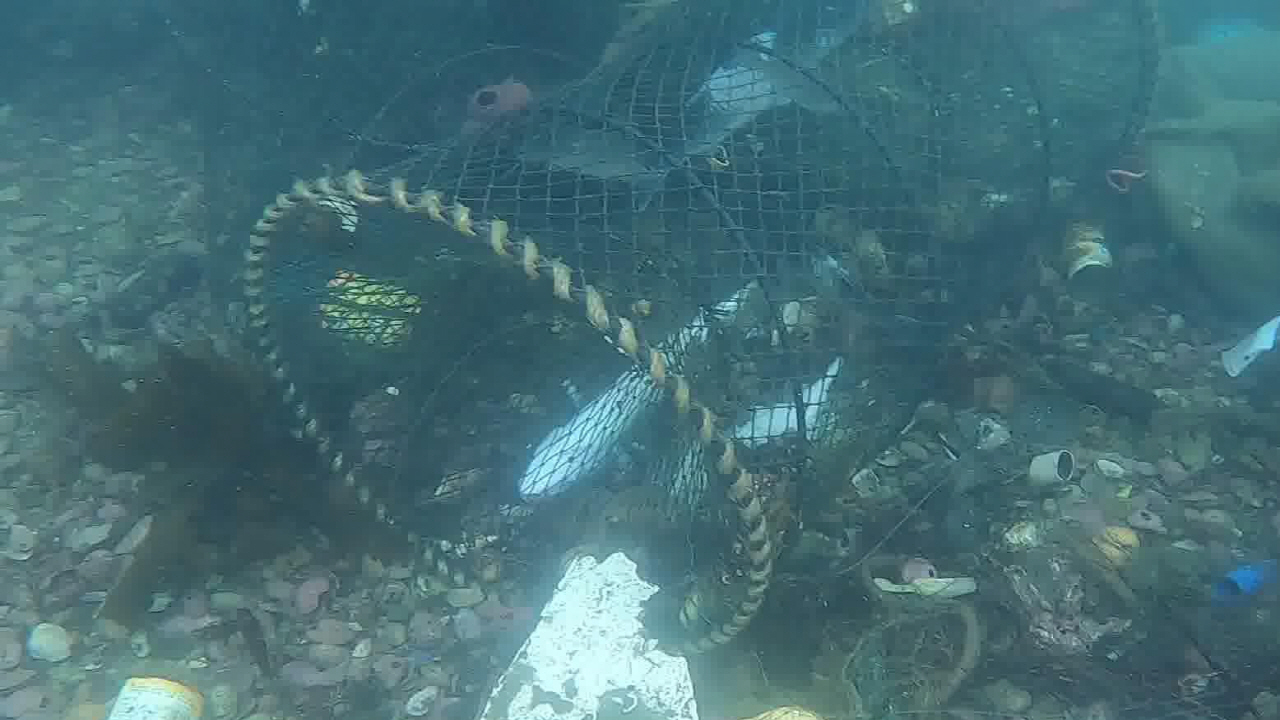spring fish trap: (242, 0, 1162, 663)
